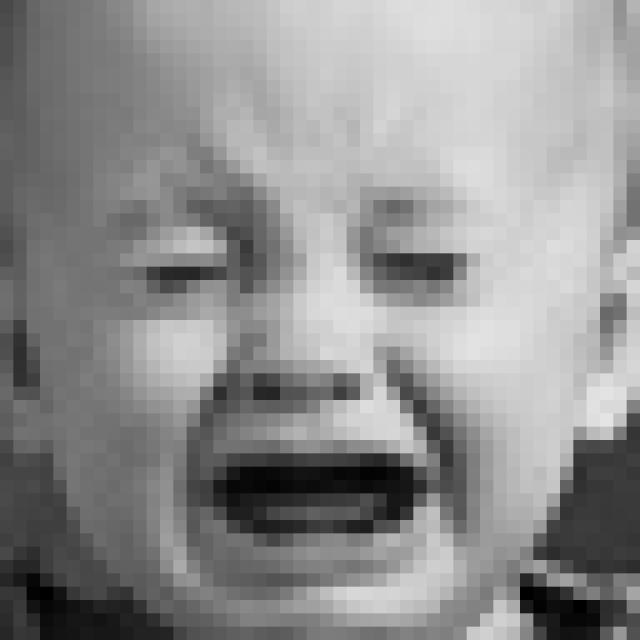sad: (99, 153, 498, 592)
